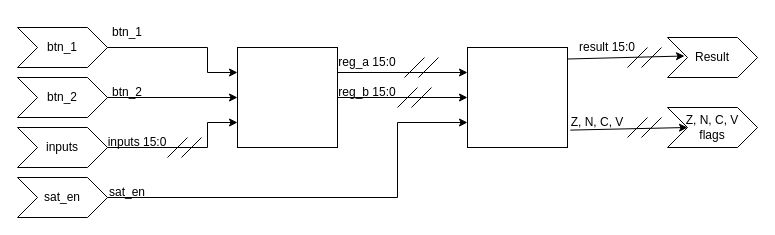
This 775x235 diagram has some shape labels left out. The centre of each missing label's shape, as x and y in pixels:
Adder Logic: the point at 517,97
register allocation: the point at 287,97
